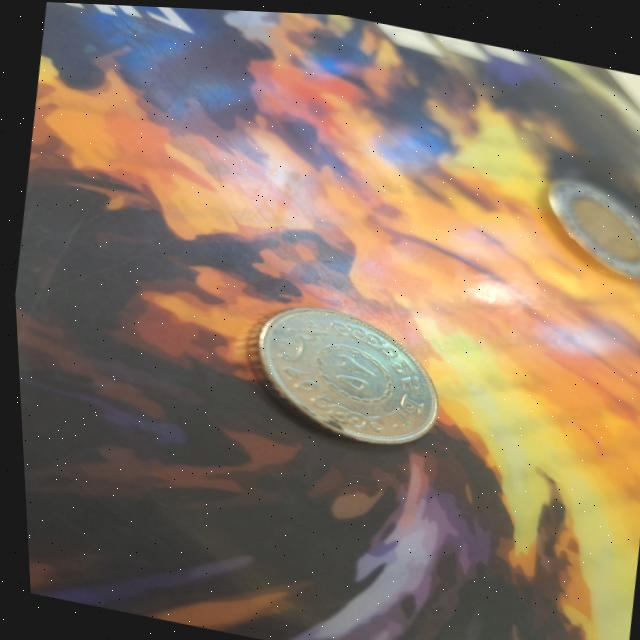One Pound: (523, 158, 640, 283)
quarter pound: (220, 282, 458, 461)
